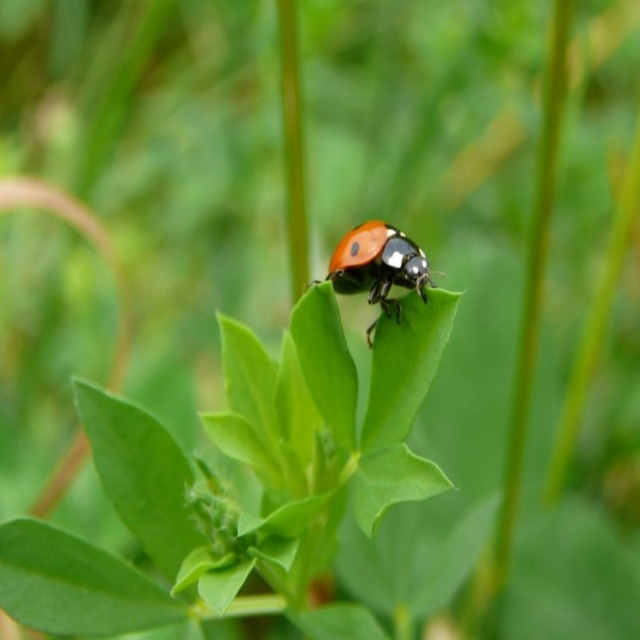Ladybug: (307, 220, 446, 350)
